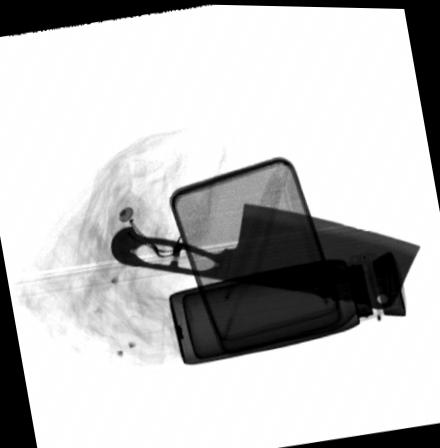Knife: (108, 200, 421, 307)
